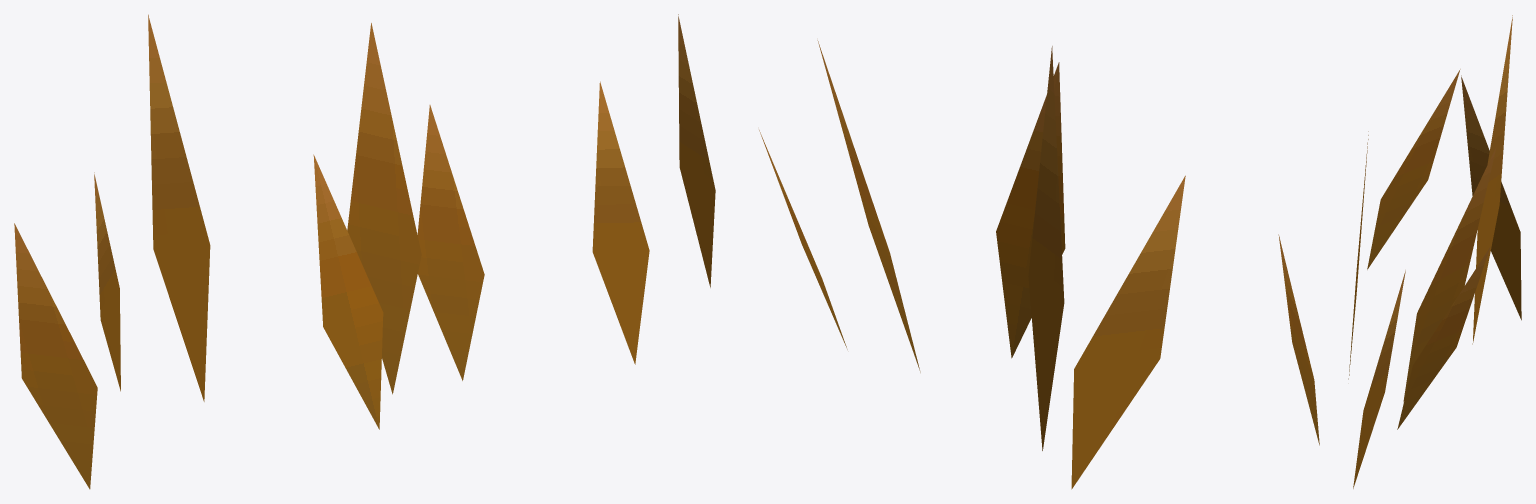
Rendered from plants_me_main_grass82.gltf.
3 views of the same model, side by side, from view 1: azimuth 30°, elevation 25°; view 2: azimuth 150°, elevation 25°; view 3: azimuth 270°, elevation 25° (orthographic). The views are drawn at different scales.
Visible parts, largest first — view 1: um_plants_me_main_grass82_model_plants_me_main_grass82_model; view 2: um_plants_me_main_grass82_model_plants_me_main_grass82_model; view 3: um_plants_me_main_grass82_model_plants_me_main_grass82_model.
Part boxes in pixels (x1,y1,x2,y2): um_plants_me_main_grass82_model_plants_me_main_grass82_model: (14, 14, 649, 489); um_plants_me_main_grass82_model_plants_me_main_grass82_model: (678, 14, 1319, 489); um_plants_me_main_grass82_model_plants_me_main_grass82_model: (1348, 15, 1521, 488).
Bounding box in the file's own units: 0.5503 × 0.3383 × 0.1672.
Materials: 1 (1 with a texture image).
